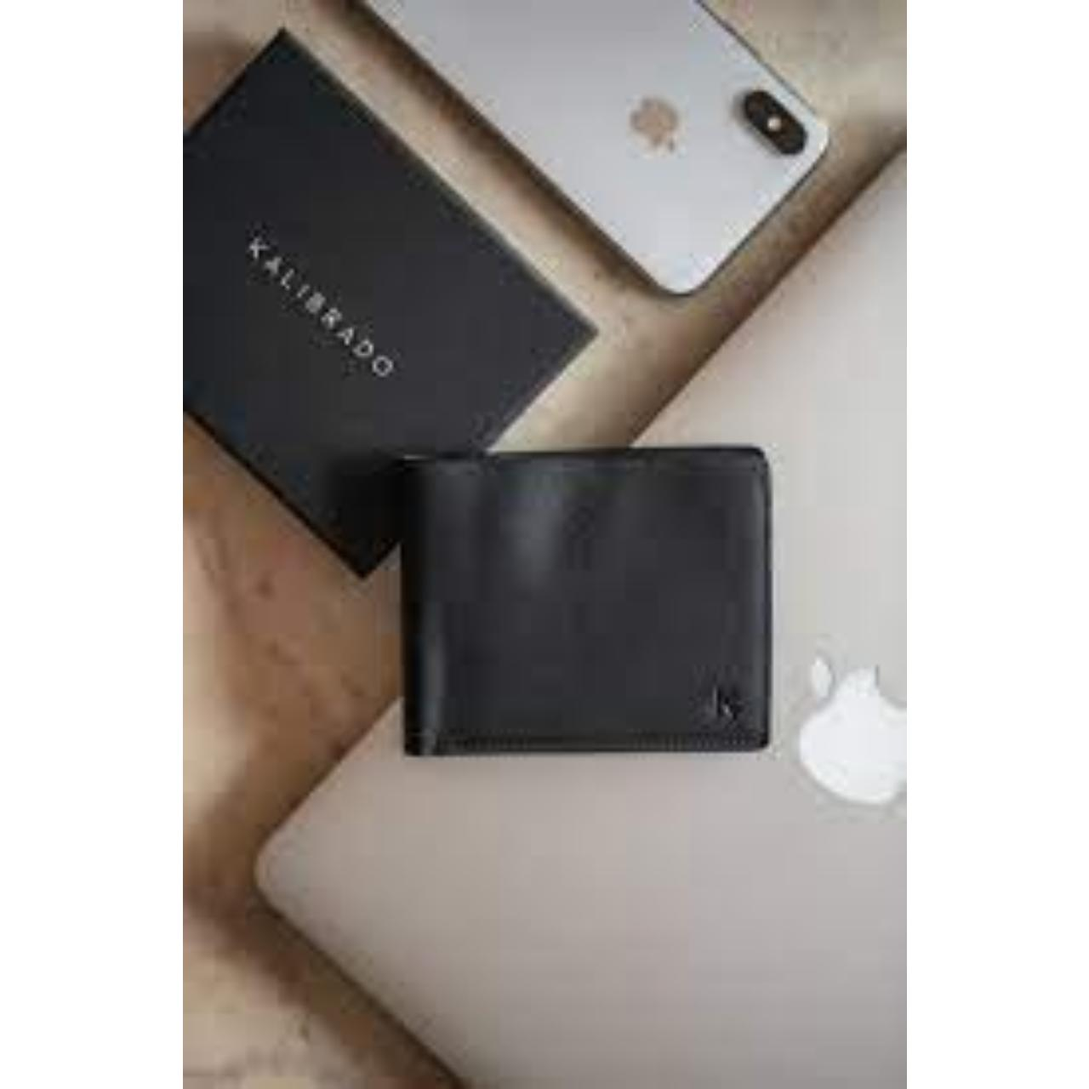wallet: (376, 436, 907, 808)
